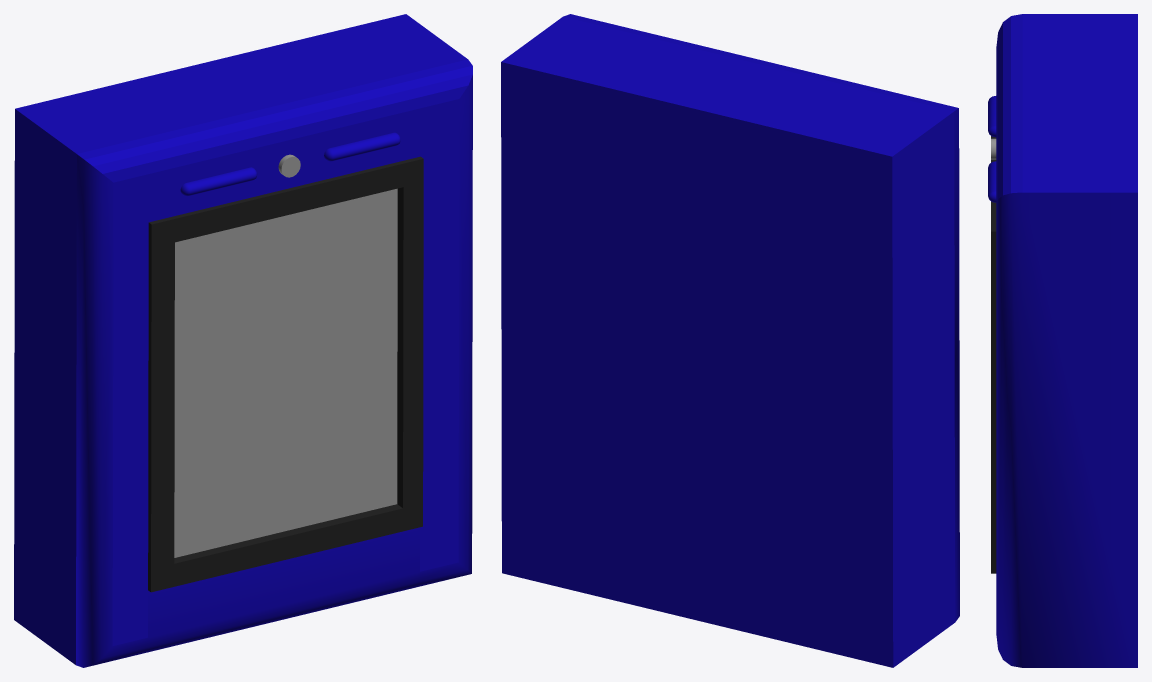
Rendered from Detector_Tarjetas.fbx.
3 renders of one model, left to right at view 1: azimuth 30°, elevation 25°; view 2: azimuth 150°, elevation 25°; view 3: azimuth 270°, elevation 25°, orthographic. The views are drawn at different scales.
Visible parts, largest first — view 1: Capsule005; view 2: Capsule005; view 3: Capsule005.
Boxes of the visible parts, x1,y1,x2,y2 form: Capsule005: (14, 14, 472, 667); Capsule005: (501, 14, 959, 667); Capsule005: (988, 14, 1137, 667).
Bounding box in the file's own units: 32.14 × 40.08 × 11.42.
